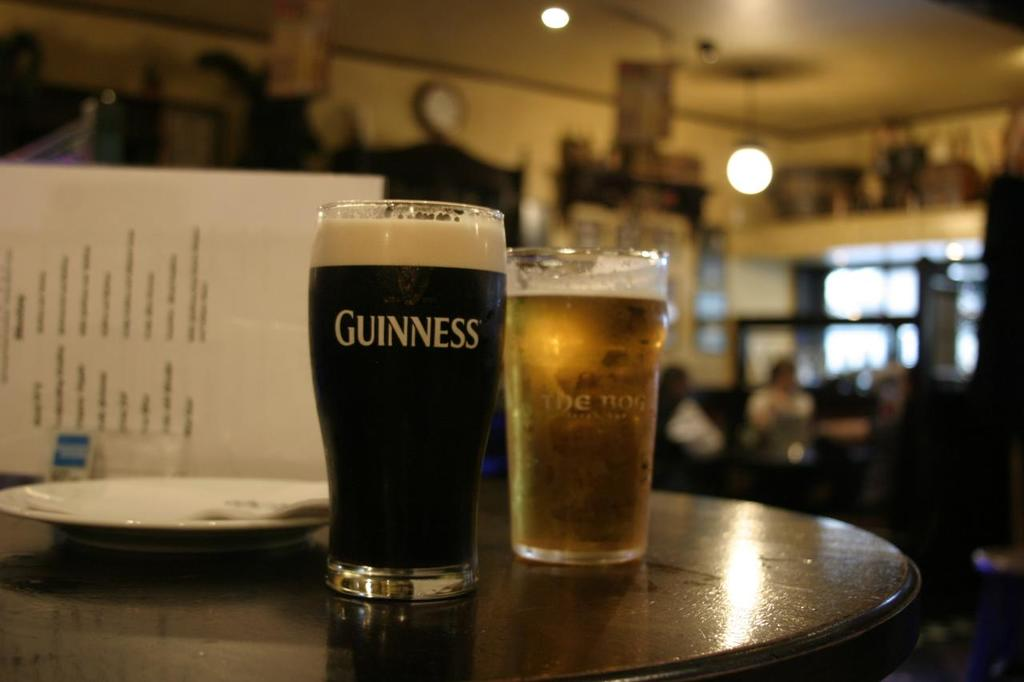Beer: (296, 205, 505, 619), (503, 288, 664, 563)
